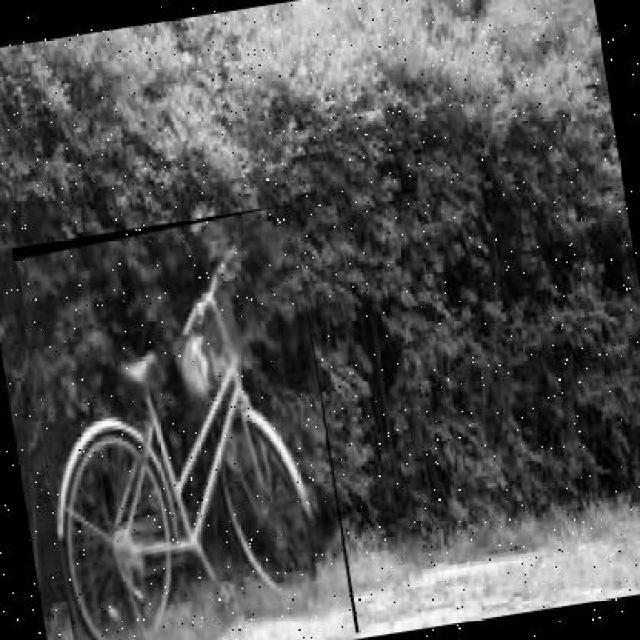bicycle: (10, 204, 361, 640)
